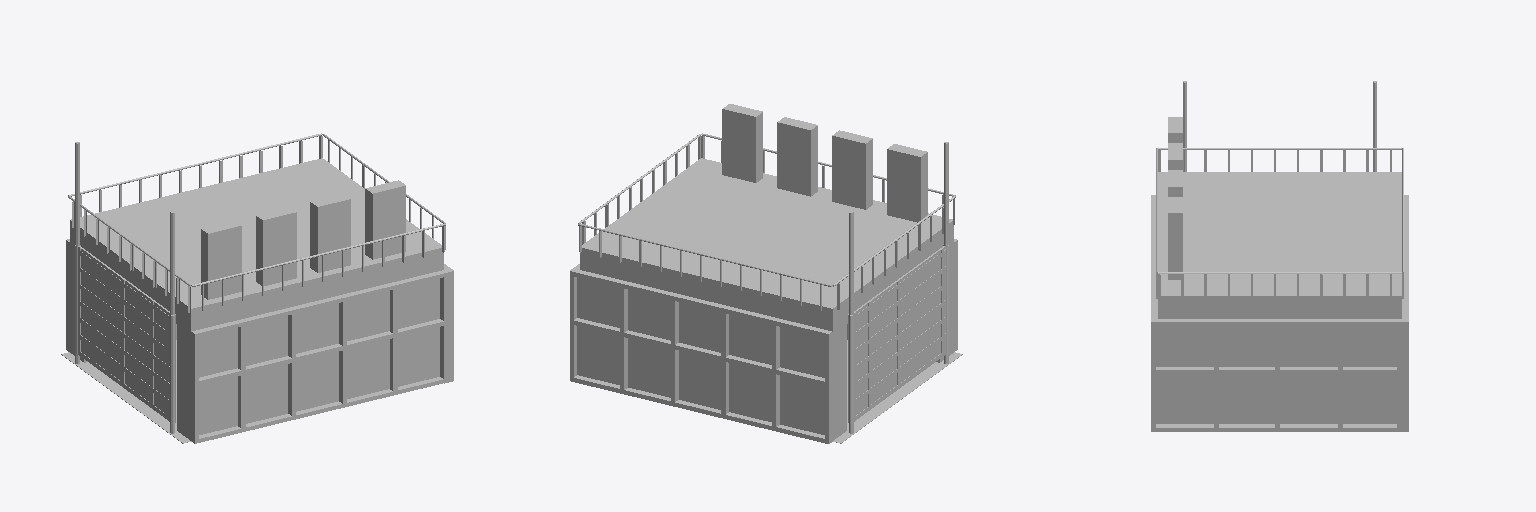
The model's file is Homogenezing.obj.
The picture shows the model from 3 angles: view 1: azimuth 30°, elevation 25°; view 2: azimuth 150°, elevation 25°; view 3: azimuth 270°, elevation 25°; orthographic projection.
Visible parts, largest first — view 1: Homogenezing_v1; view 2: Homogenezing_v1; view 3: Homogenezing_v1.
Boxes of the visible parts, x1=… form: Homogenezing_v1: x1=61, y1=133, x2=453, y2=443; Homogenezing_v1: x1=570, y1=104, x2=962, y2=443; Homogenezing_v1: x1=1151, y1=81, x2=1408, y2=431.
Bounding box in the file's own units: 318 × 250 × 265.